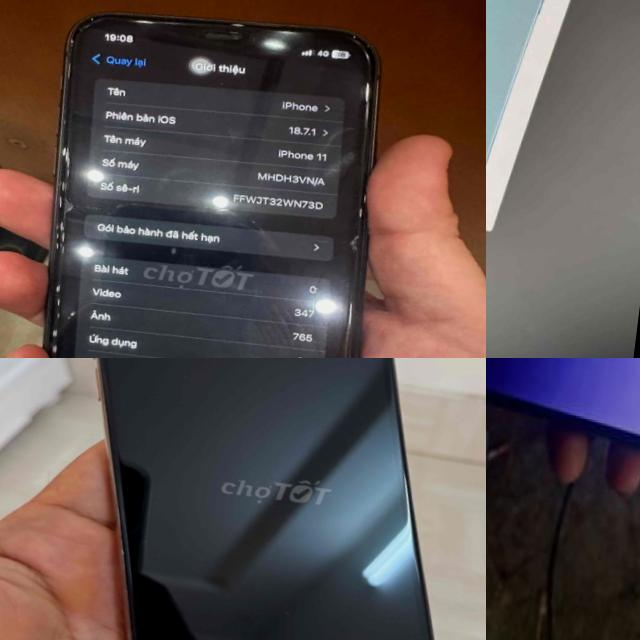gen_11: (2, 0, 415, 358)
gen_x_xs: (97, 358, 431, 640), (486, 358, 640, 537)
physical_damage: (20, 127, 142, 358), (58, 12, 119, 82), (334, 198, 371, 264)
